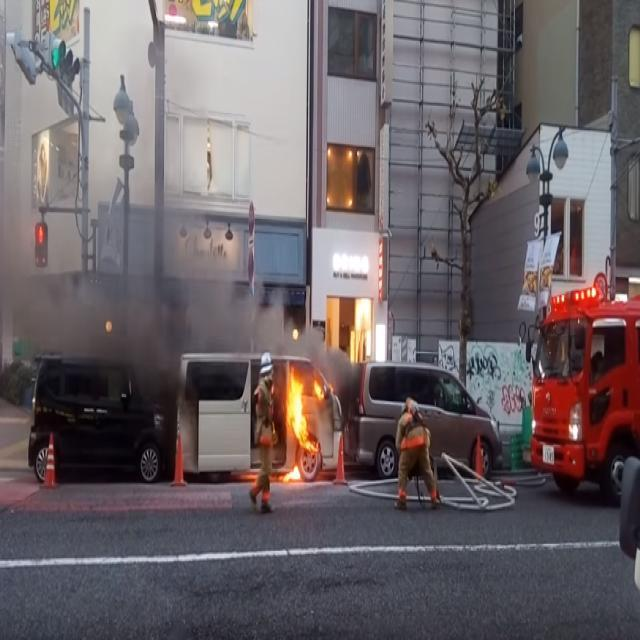Fire: (286, 359, 340, 481)
Smoke: (3, 252, 294, 354)
